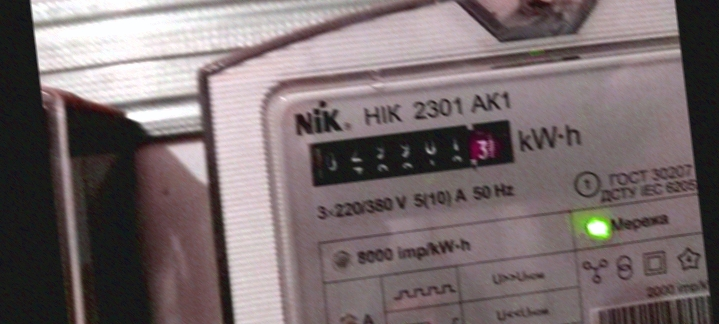0: (420, 128, 437, 154), (321, 147, 339, 169)
1: (445, 126, 461, 151)
2: (345, 141, 363, 161)
3: (473, 134, 489, 157)
9: (395, 133, 412, 156), (371, 136, 385, 159)
screen: (292, 105, 525, 195)
